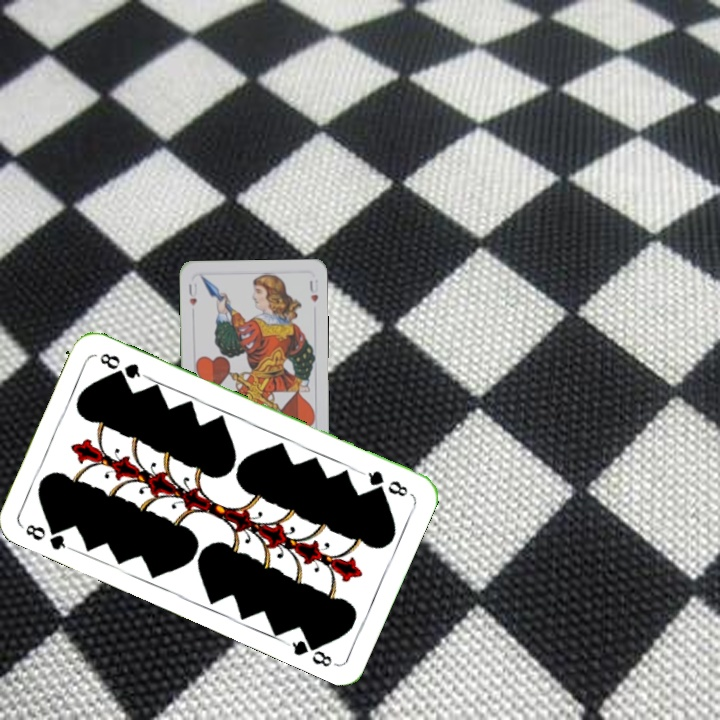G8: (357, 466, 411, 499), (21, 519, 72, 553)
HU: (185, 279, 199, 308)
